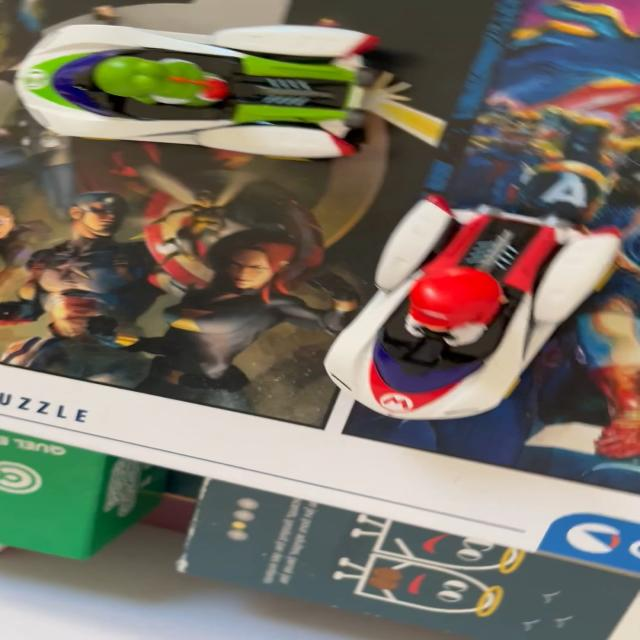mario: (296, 184, 633, 437)
yoshi: (23, 2, 469, 175)
